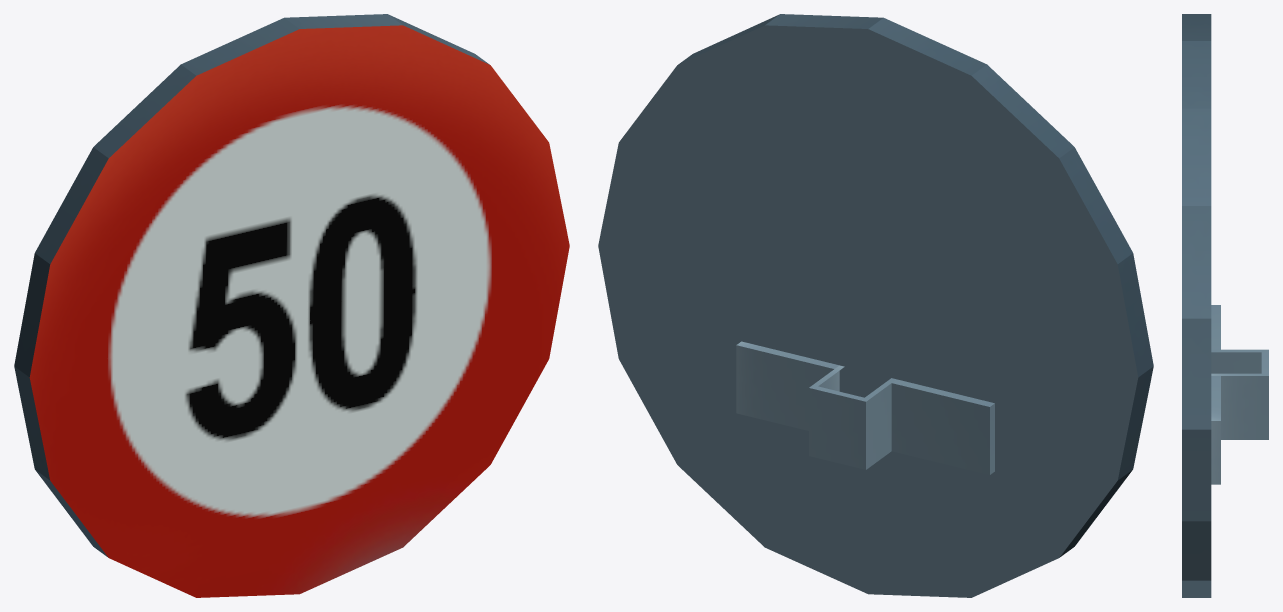
The model's file is Sign26Austrian.fbx.
3 views of the same model, side by side, from view 1: azimuth 30°, elevation 25°; view 2: azimuth 150°, elevation 25°; view 3: azimuth 270°, elevation 25° (orthographic). The views are drawn at different scales.
Visible parts, largest first — view 1: Sign26Austrian; view 2: Sign26Austrian; view 3: Sign26Austrian.
Boxes of the visible parts, x1,y1,x2,y2 form: Sign26Austrian: [14, 14, 569, 597]; Sign26Austrian: [598, 14, 1153, 597]; Sign26Austrian: [1182, 14, 1268, 597].
Size of the model in its own units: 1 by 1 by 0.1489.
